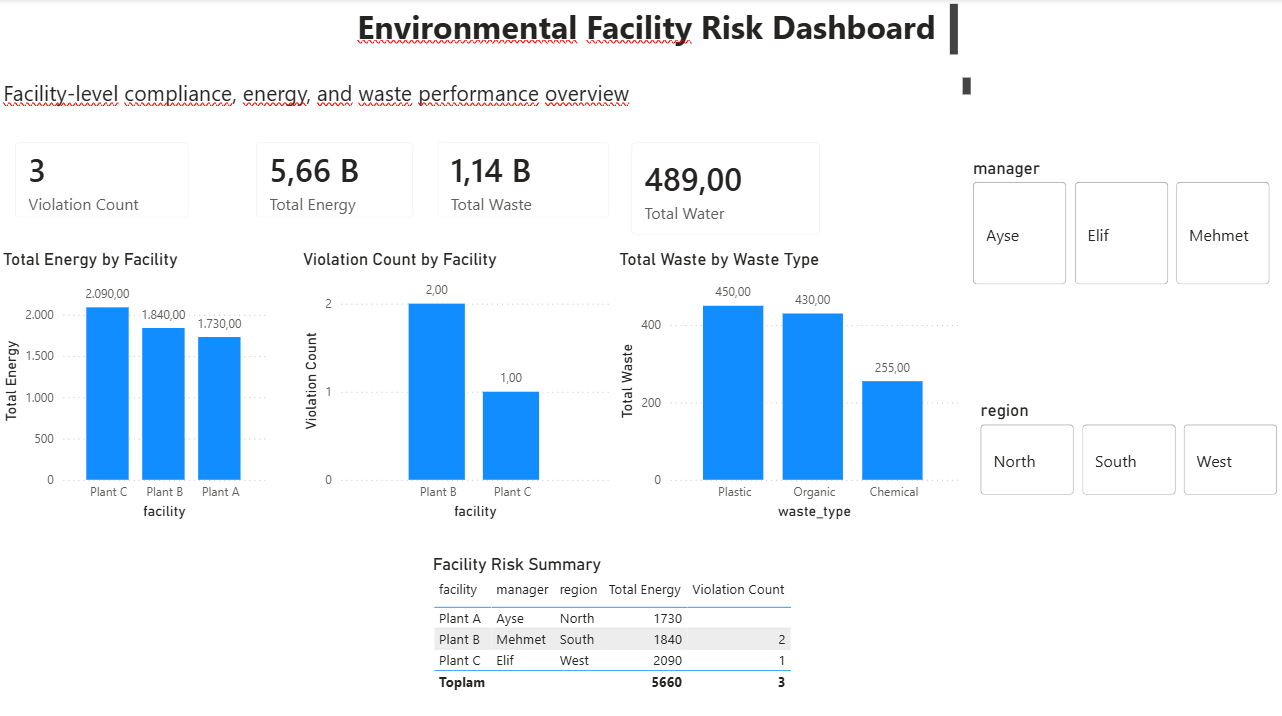

This screenshot's page, from the dashboard's own definition file:
{"tool":"powerbi","page":{"name":"1. sayfa","canvas":[1280,720],"ordinal":0},"visuals":[{"type":"cardVisual","fields":{"Data":["environmental_operations.Violation Count"]},"box":[0,125.6,207.7,109.5],"z":0},{"type":"cardVisual","fields":{"Data":["environmental_operations.Total Energy"]},"box":[240.1,125.6,190.3,109.5],"z":1},{"type":"cardVisual","fields":{"Data":["environmental_operations.Total Waste"]},"box":[420.5,125.6,205.3,109.5],"z":2},{"type":"cardVisual","fields":{"Data":["environmental_operations.Total Water"]},"box":[613.3,125.6,222.7,126.9],"z":3},{"type":"clusteredColumnChart","title":"Total Energy by Facility","fields":{"Y":["environmental_operations.Total Energy"],"Category":["environmental_operations.facility"]},"box":[0,248.8,271.2,273.7],"z":4},{"type":"clusteredColumnChart","title":"Violation Count by Facility","fields":{"Y":["environmental_operations.Violation Count"],"Category":["facility_info.facility"]},"box":[298.6,248.8,314.7,273.7],"z":5},{"type":"clusteredColumnChart","title":"Total Waste by Waste Type","fields":{"Y":["environmental_operations.Total Waste"],"Category":["environmental_operations.waste_type"]},"box":[613.3,248.8,347.1,273.7],"z":6},{"type":"advancedSlicerVisual","fields":{"Values":["facility_info.region"]},"box":[972.8,399.3,307.3,99.5],"z":7},{"type":"advancedSlicerVisual","fields":{"Values":["facility_info.manager"]},"box":[965.3,158,307.3,131.9],"z":8},{"type":"textbox","box":[352,0,608.3,64.7],"z":9},{"type":"textbox","box":[0,73.4,972.8,42.3],"z":10},{"type":"tableEx","title":"Facility Risk Summary","fields":{"Values":["facility_info.facility","facility_info.manager","facility_info.region","environmental_operations.Total Energy","environmental_operations.Violation Count"]},"box":[427.9,552.3,370.7,150.5],"z":11}]}

Visuals, with their boxes in screenshot pixels (x1, y1, x2, y2), scaled from the page's 1280x720 canvas onto the 1282x716 screenshot:
cardVisual - environmental_operations.Violation Count: box=[0, 125, 208, 234]
cardVisual - environmental_operations.Total Energy: box=[240, 125, 431, 234]
cardVisual - environmental_operations.Total Waste: box=[421, 125, 627, 234]
cardVisual - environmental_operations.Total Water: box=[614, 125, 837, 251]
"Total Energy by Facility" clusteredColumnChart: box=[0, 247, 272, 520]
"Violation Count by Facility" clusteredColumnChart: box=[299, 247, 614, 520]
"Total Waste by Waste Type" clusteredColumnChart: box=[614, 247, 962, 520]
advancedSlicerVisual - facility_info.region: box=[974, 397, 1281, 496]
advancedSlicerVisual - facility_info.manager: box=[967, 157, 1275, 288]
textbox: box=[353, 0, 962, 64]
textbox: box=[0, 73, 974, 115]
"Facility Risk Summary" tableEx: box=[429, 549, 800, 699]
